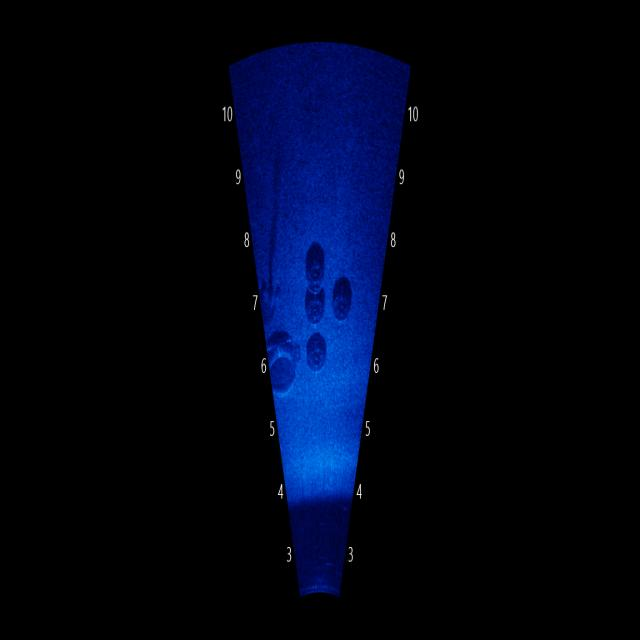circle: (259, 310, 300, 412), (298, 232, 338, 300), (323, 262, 359, 332), (304, 323, 332, 395), (300, 279, 332, 325)
